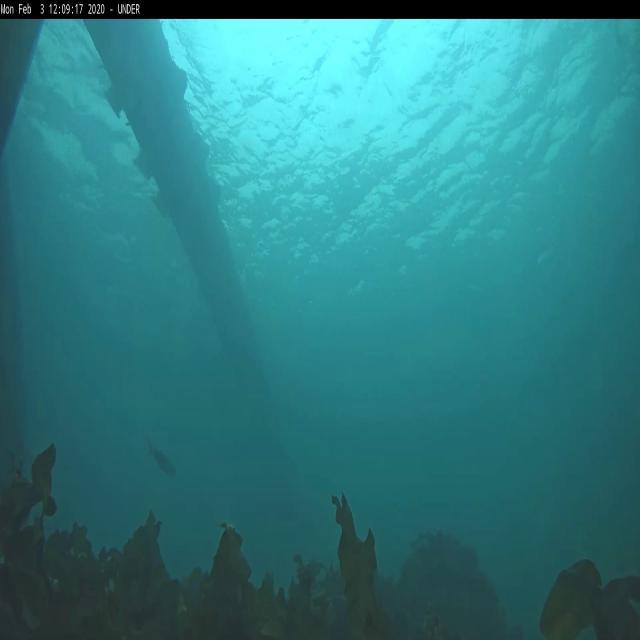fish: (146, 440, 176, 476)
